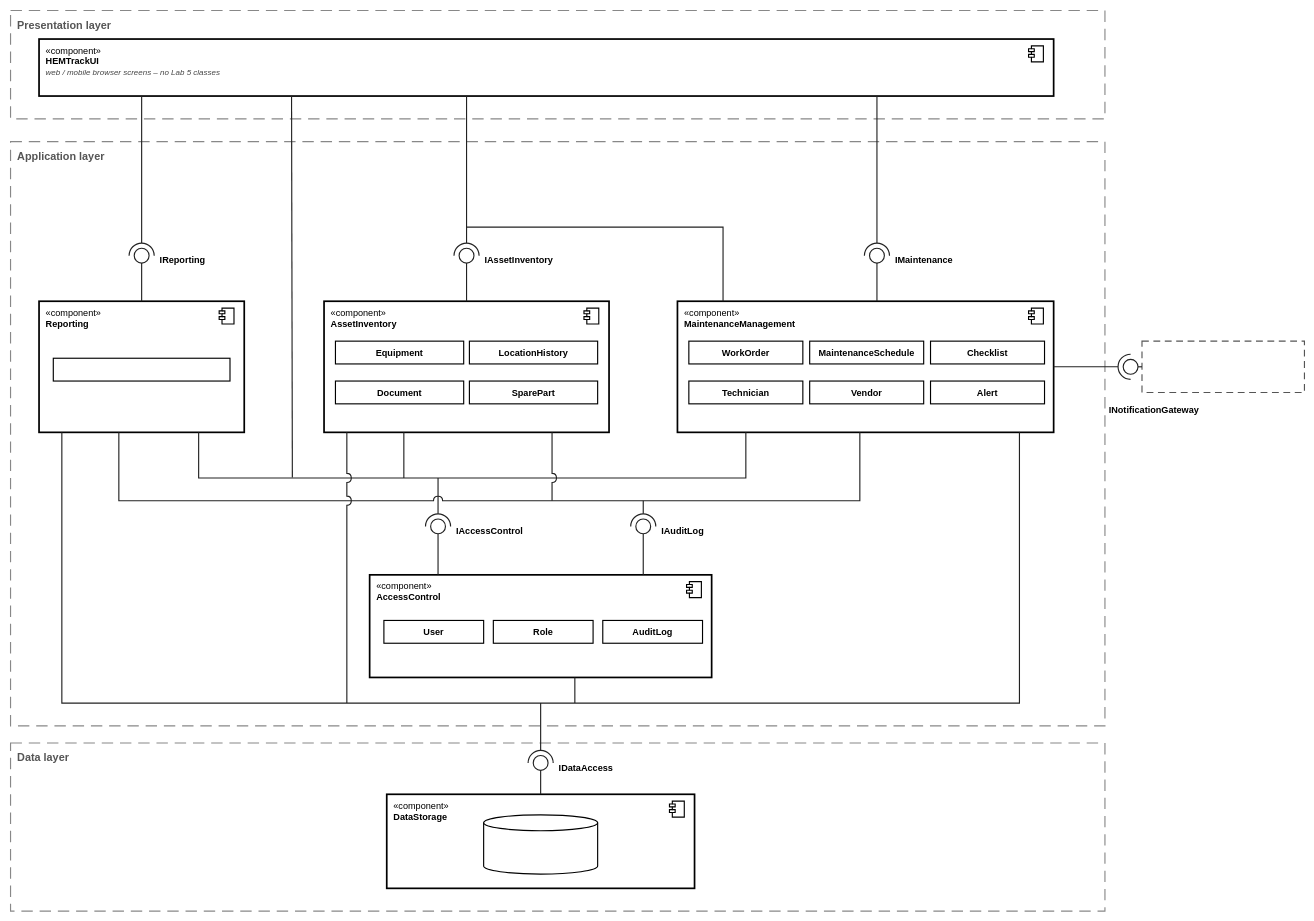
Some shapes in this 1314 by 921 pixel diagram are drawn without their labels. The shapes that lost their labels are listed below. From the top down, each one's centre as x and y in pixels, then its label:
the point at 141,369: Report
the point at 1223,366: «external system» Notifcation Gateway
the point at 540,844: HEM-Track DB (RDBMS)
